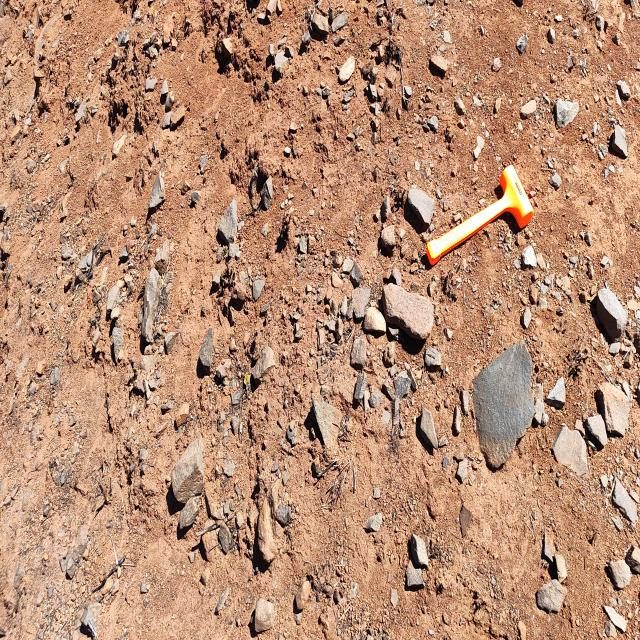Orange_hammer: (426, 163, 534, 266)
rock: (475, 348, 534, 471), (382, 272, 433, 341), (166, 437, 206, 505), (139, 266, 169, 352), (143, 166, 172, 215), (215, 196, 241, 247), (427, 48, 455, 79), (293, 576, 313, 612), (335, 54, 356, 86), (309, 11, 332, 36), (518, 100, 540, 124), (167, 106, 187, 129)
